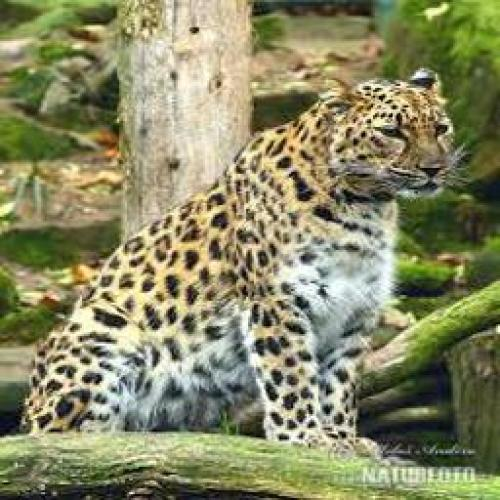amur_leopard-endangered: (19, 69, 458, 457)
